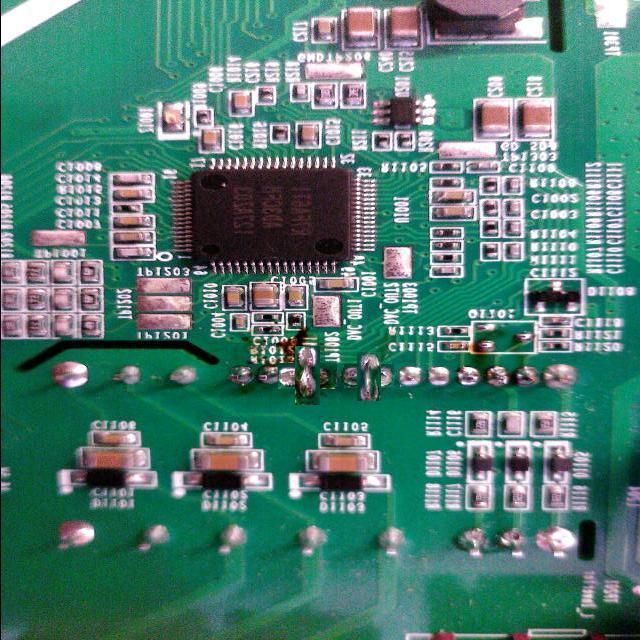Short_circuit: (286, 355, 329, 397), (351, 357, 388, 395)
